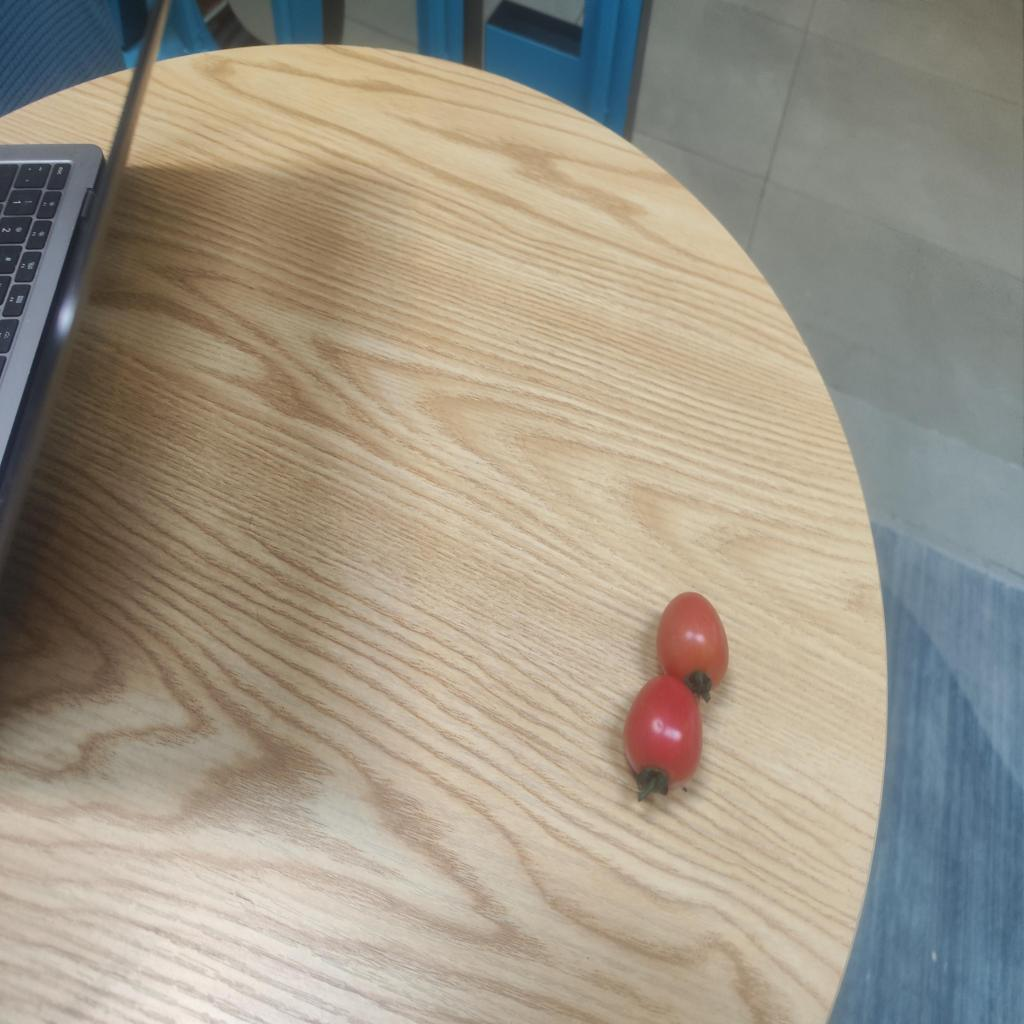tomato: (625, 672, 697, 799), (656, 589, 731, 699)
